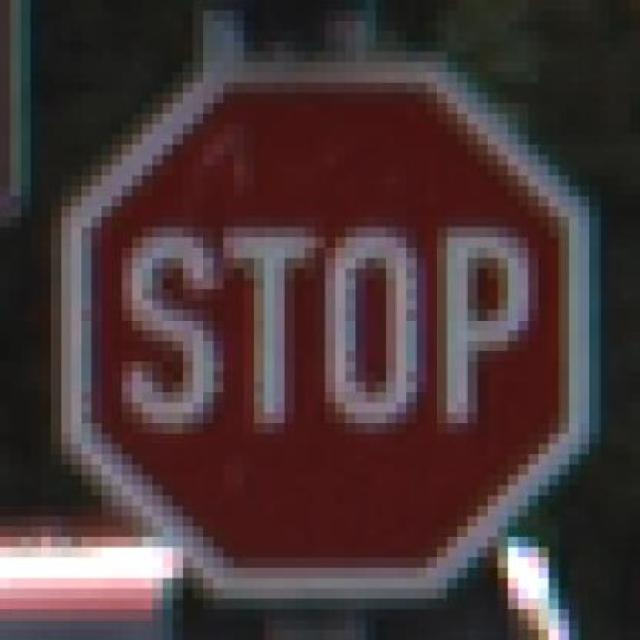Stop_Sign: (31, 41, 620, 619)
